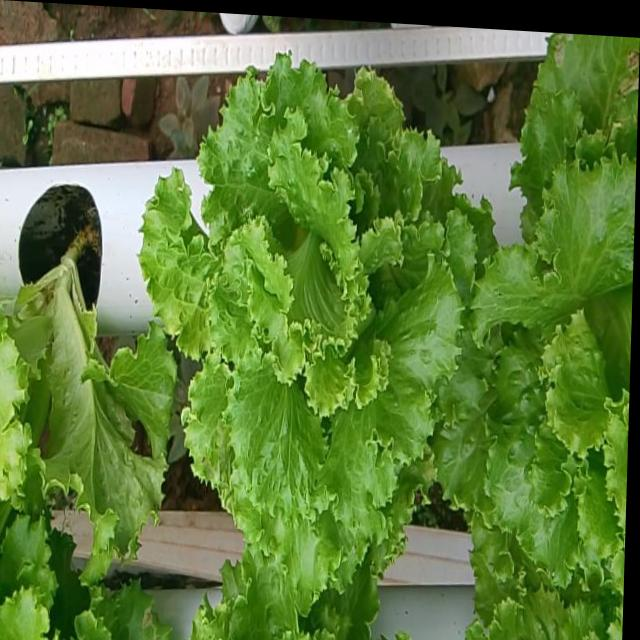Mature: (133, 37, 468, 579), (428, 133, 637, 573)
